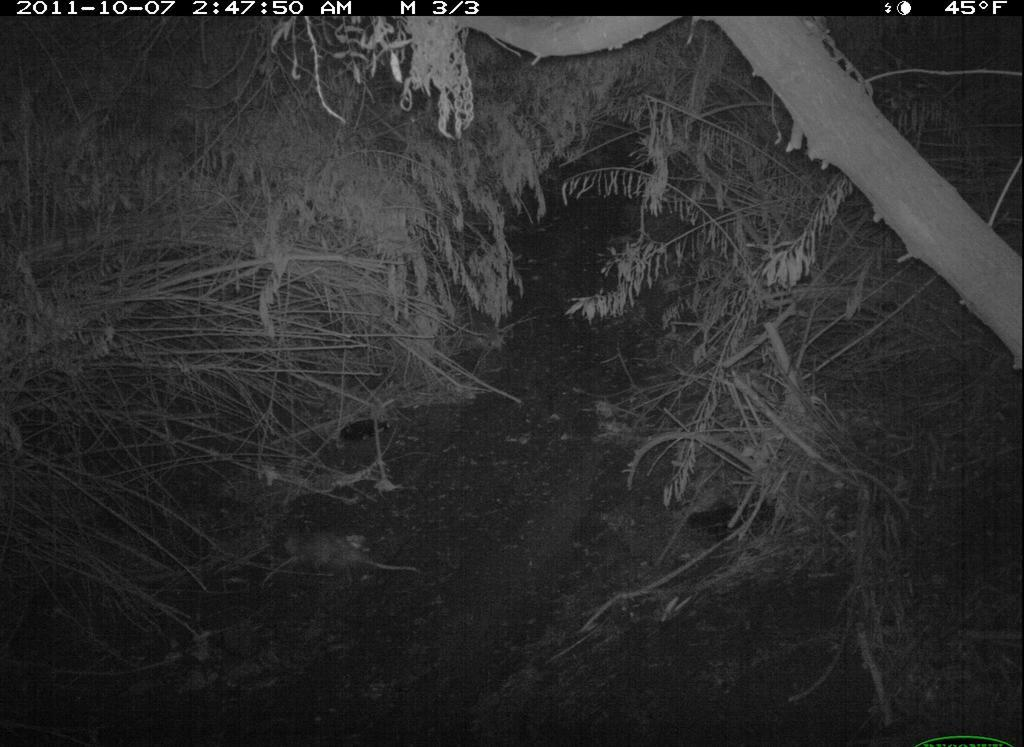opossum: (272, 515, 433, 591)
